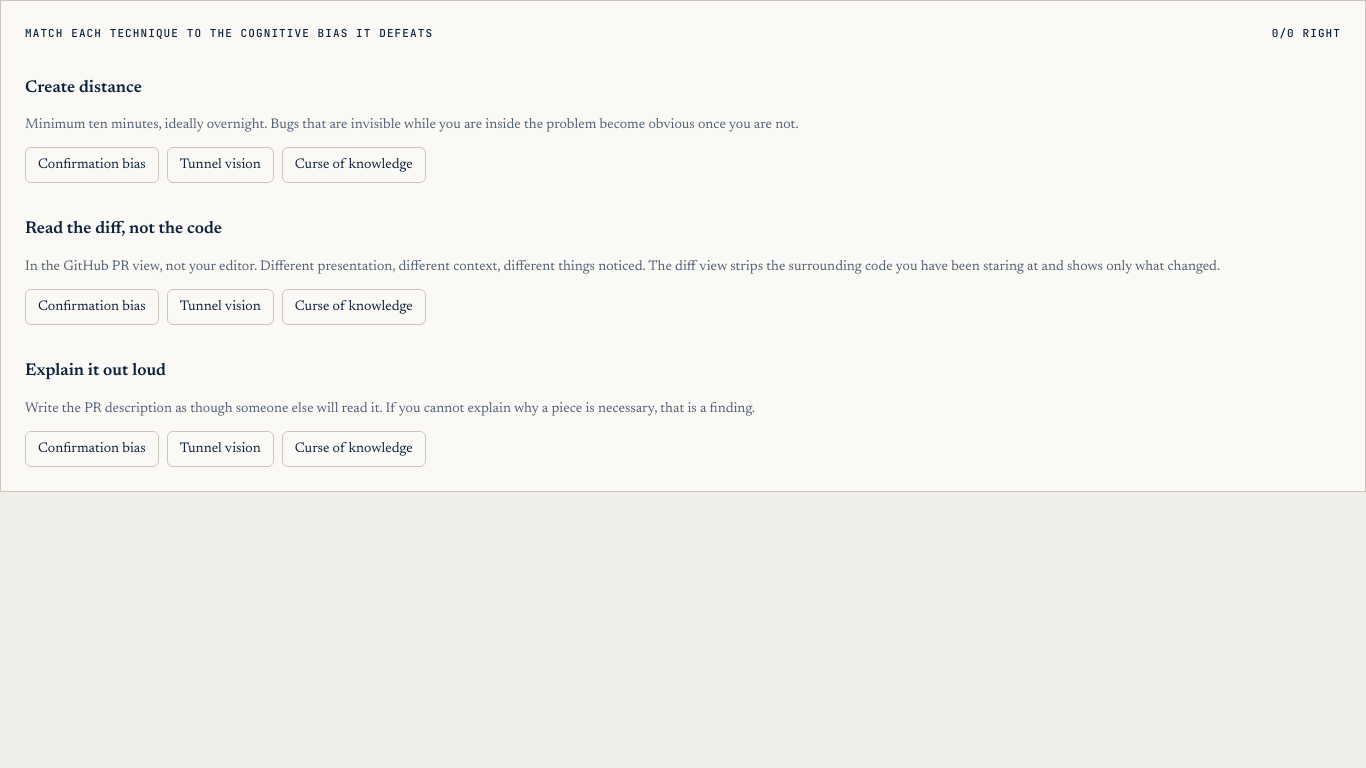
Test case: SelfReviewMatch › correct answer shows green verdict and increments score
The width and height of the screenshot is (1366, 768).
Click the radio button labelled "Confirmation bias" below "Create distance" at (92, 165), box top-left (25, 147), bottom-right (159, 183)
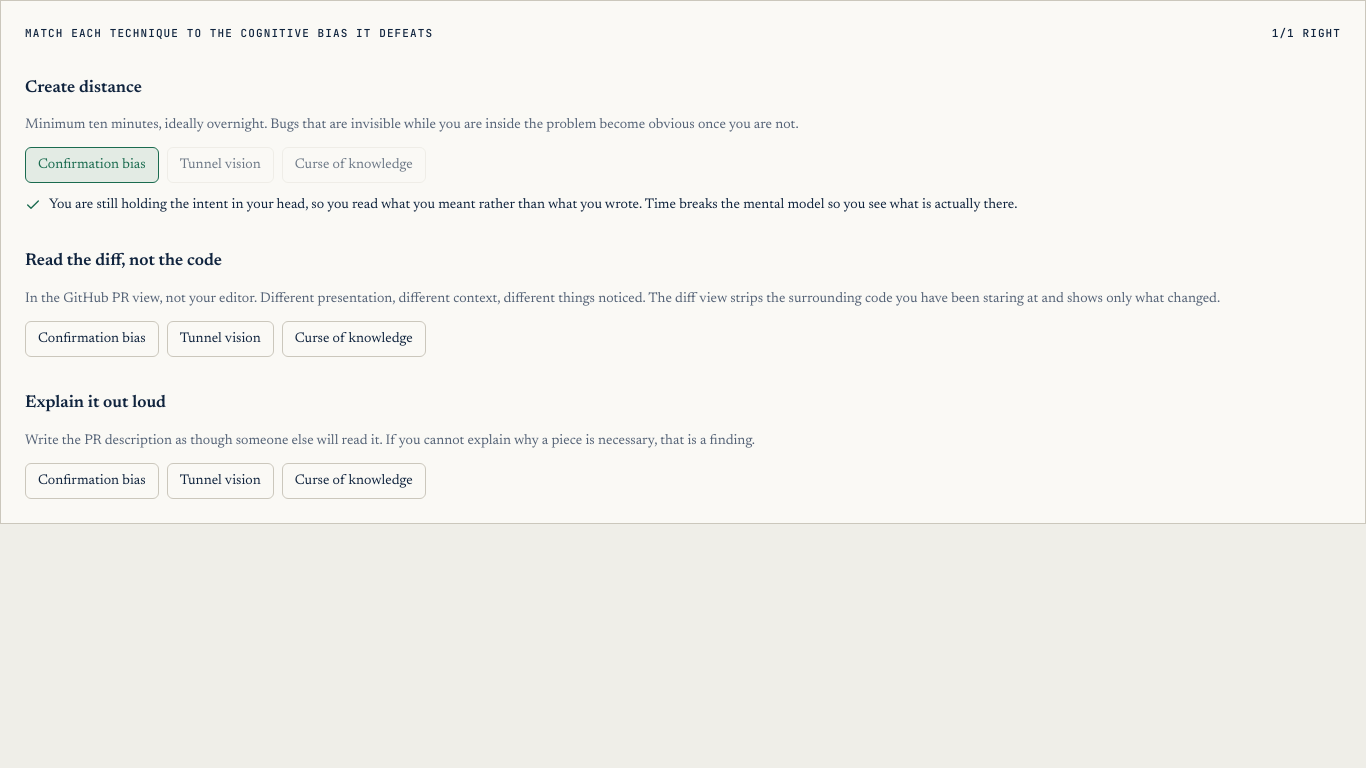
Check: the text "1/1 right" is shown, box top-left (1272, 25), bottom-right (1341, 42)
